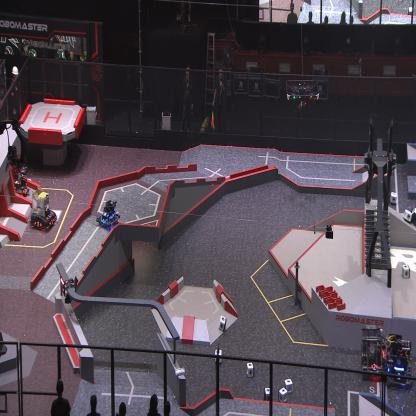car: (384, 332, 414, 388), (360, 324, 385, 380), (29, 190, 58, 232), (96, 198, 121, 232), (10, 166, 30, 198)
